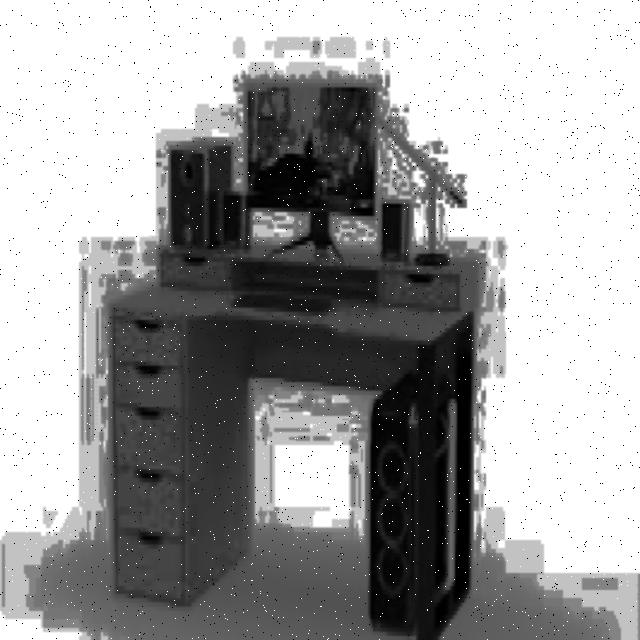table: (108, 241, 481, 640)
